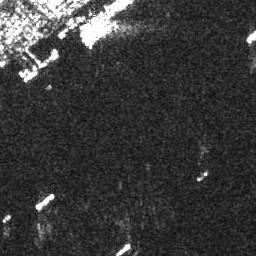ship: (33, 192, 54, 212), (114, 241, 130, 256), (20, 72, 38, 84), (2, 213, 10, 222)
